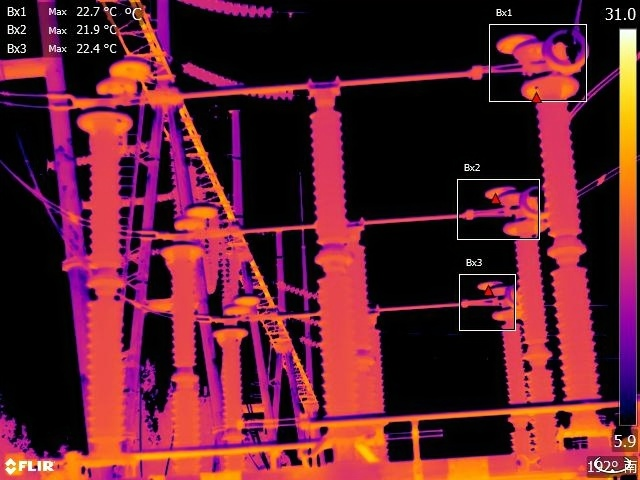insulator: (176, 55, 292, 102), (35, 139, 153, 170), (170, 1, 278, 23), (78, 188, 176, 212), (276, 283, 322, 300), (298, 332, 320, 352), (300, 318, 320, 327)
post insulator: (77, 110, 144, 458), (537, 78, 603, 400), (304, 110, 372, 420), (516, 239, 563, 446), (163, 237, 200, 474), (346, 226, 386, 440), (212, 313, 247, 471), (496, 320, 534, 454)
switch: (73, 28, 595, 131), (154, 177, 543, 253), (211, 279, 511, 337)
